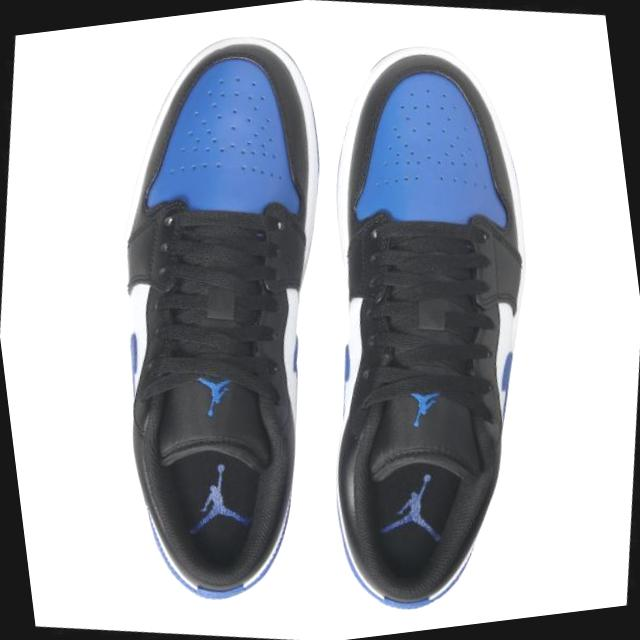nike_original_jordan: (33, 2, 393, 630), (242, 18, 601, 636)
